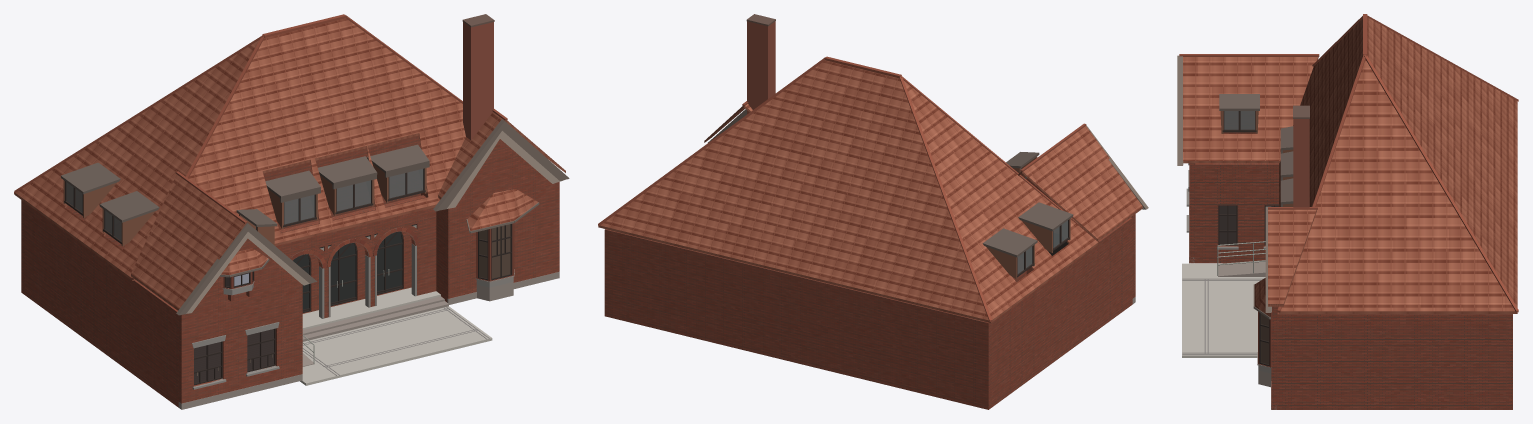
File: hongkou-yimin-food-factory-reconstructed-villa-lod.glb
3 renders of one model, left to right at view 1: azimuth 30°, elevation 25°; view 2: azimuth 150°, elevation 25°; view 3: azimuth 270°, elevation 25°, orthographic. The views are drawn at different scales.
Visible parts, largest first — view 1: 益民食品一厂复建西班牙式小楼; view 2: 益民食品一厂复建西班牙式小楼; view 3: 益民食品一厂复建西班牙式小楼.
Part boxes in pixels (x1,y1,x2,y2): 益民食品一厂复建西班牙式小楼: [14, 14, 569, 409]; 益民食品一厂复建西班牙式小楼: [598, 14, 1148, 409]; 益民食品一厂复建西班牙式小楼: [1177, 14, 1518, 409].
Bounding box in the file's own units: 19.84 × 11.9 × 13.36.
33 materials, 2 textured.
